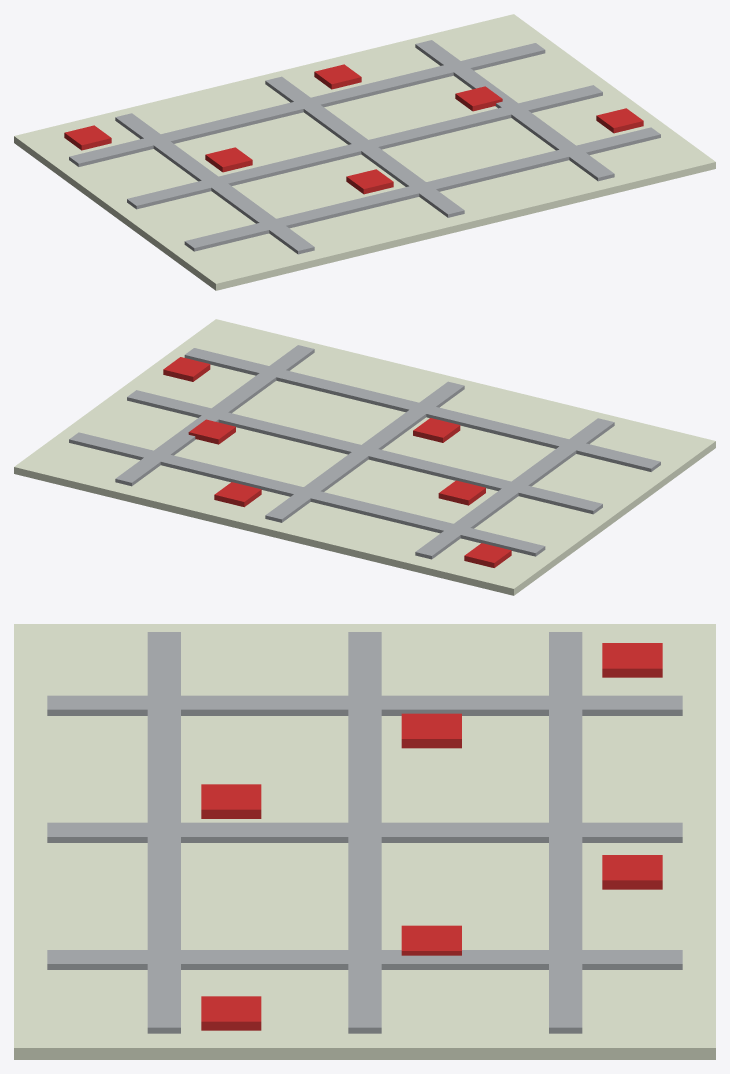
File: pillow_map.glb
3 views of the same model, one above another, from view 1: azimuth 30°, elevation 25°; view 2: azimuth 150°, elevation 25°; view 3: azimuth 270°, elevation 25° (orthographic). The views are drawn at different scales.
Visible parts, largest first — view 1: sheet_map_paper, streets_map_street (×6), marks_map_red (×6); view 2: sheet_map_paper, streets_map_street (×6), marks_map_red (×6); view 3: sheet_map_paper, streets_map_street (×6), marks_map_red (×6).
Boxes of the visible parts, <box> form: sheet_map_paper: <box>14,14,715,290</box>; streets_map_street (×6): <box>69,40,660,254</box>; marks_map_red (×6): <box>64,64,643,194</box>; sheet_map_paper: <box>14,319,715,595</box>; streets_map_street (×6): <box>69,345,660,559</box>; marks_map_red (×6): <box>163,357,511,567</box>; sheet_map_paper: <box>14,624,715,1059</box>; streets_map_street (×6): <box>47,632,682,1033</box>; marks_map_red (×6): <box>201,643,662,1030</box>.
Size of the model in its own units: 0.3 by 0.0075 by 0.21.
